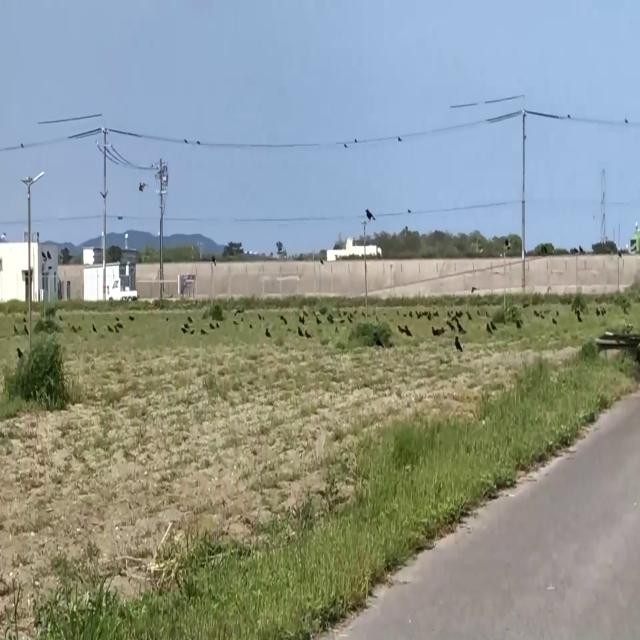bird: (365, 202, 375, 226), (16, 341, 24, 365), (455, 331, 462, 357), (139, 175, 146, 198)
